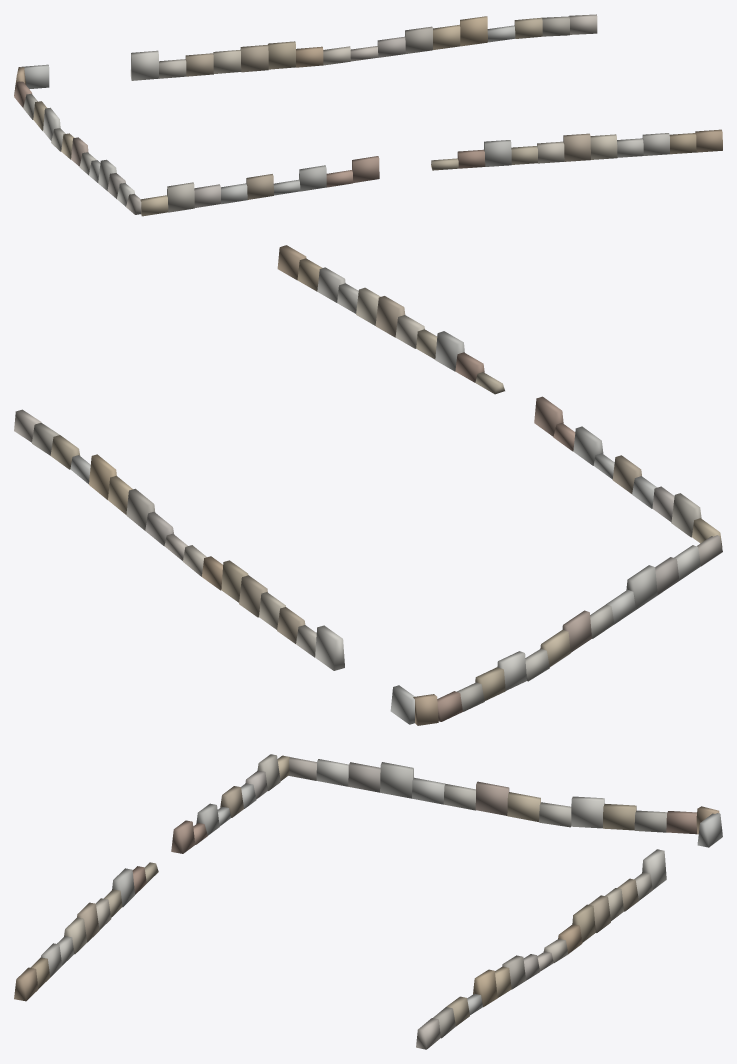
File: farm_5_-5_collision.glb
3 renders of one model, top to bottom at view 1: azimuth 30°, elevation 25°; view 2: azimuth 150°, elevation 25°; view 3: azimuth 270°, elevation 25°, orthographic. The views are drawn at different scales.
Visible parts, largest first — view 1: geometry_0; view 2: geometry_0; view 3: geometry_0.
Boxes of the visible parts, bbox=[...] form: geometry_0: bbox=[14, 14, 722, 216]; geometry_0: bbox=[14, 245, 722, 725]; geometry_0: bbox=[14, 754, 722, 1049].
Size of the model in its own units: 34.89 by 5.19 by 34.98.
